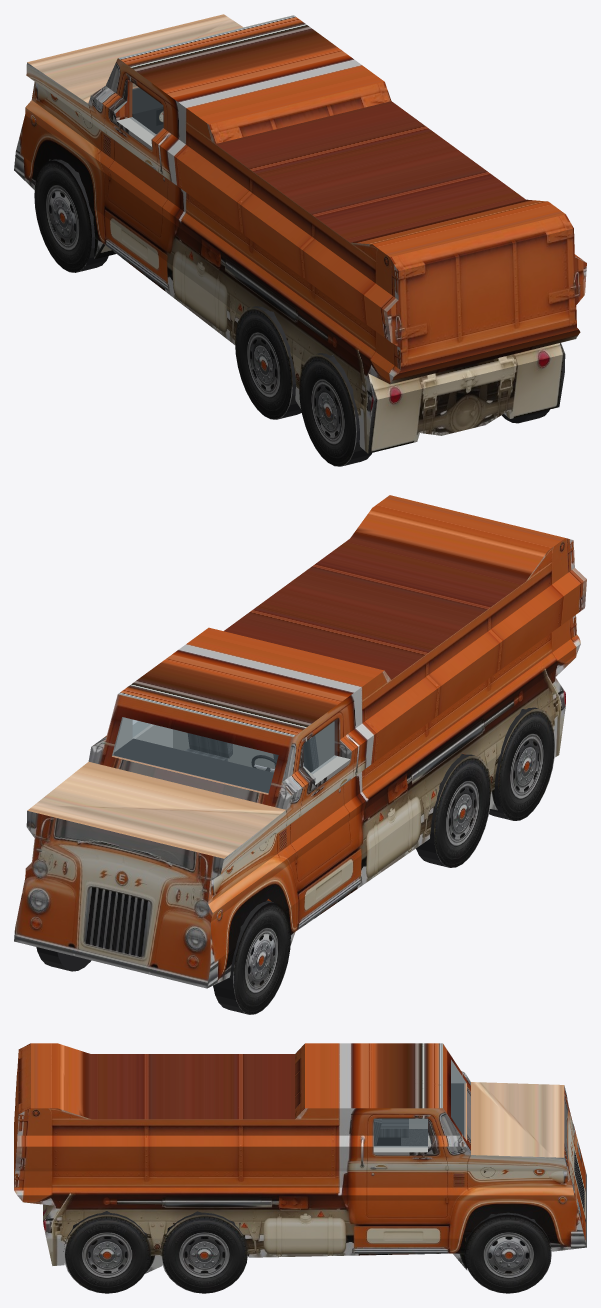
The model's file is dump_truck.glb.
3 views of the same model, one above another, from view 1: azimuth 30°, elevation 25°; view 2: azimuth 150°, elevation 25°; view 3: azimuth 270°, elevation 25° (orthographic). The views are drawn at different scales.
Parts seen in each view (by area): view 1: dump_truck, wheel_BL, wheel_FL, wheel_M1L, dump_truck_cabin; view 2: dump_truck, dump_truck_cabin, wheel_FL, wheel_M1L, wheel_BL, wheel_FR; view 3: dump_truck, wheel_M1R, wheel_BR, wheel_FR, dump_truck_cabin.
Boxes of the visible parts, x1,y1,x2,y2 form: dump_truck: (14, 14, 586, 453); wheel_BL: (299, 353, 371, 466); wheel_FL: (34, 159, 108, 272); wheel_M1L: (235, 306, 301, 419); dump_truck_cabin: (129, 81, 163, 135); dump_truck: (14, 495, 586, 988); dump_truck_cabin: (113, 717, 337, 793); wheel_FL: (213, 900, 290, 1014); wheel_M1L: (416, 753, 491, 867); wheel_BL: (489, 707, 555, 820); wheel_FR: (36, 947, 91, 971); dump_truck: (14, 1043, 586, 1273); wheel_M1R: (160, 1211, 247, 1293); wheel_BR: (63, 1211, 150, 1293); wheel_FR: (464, 1212, 551, 1293); dump_truck_cabin: (373, 1062, 465, 1147).
Bounding box in the file's own units: 2.43 × 2.79 × 7.99.
11 materials, 4 textured.
